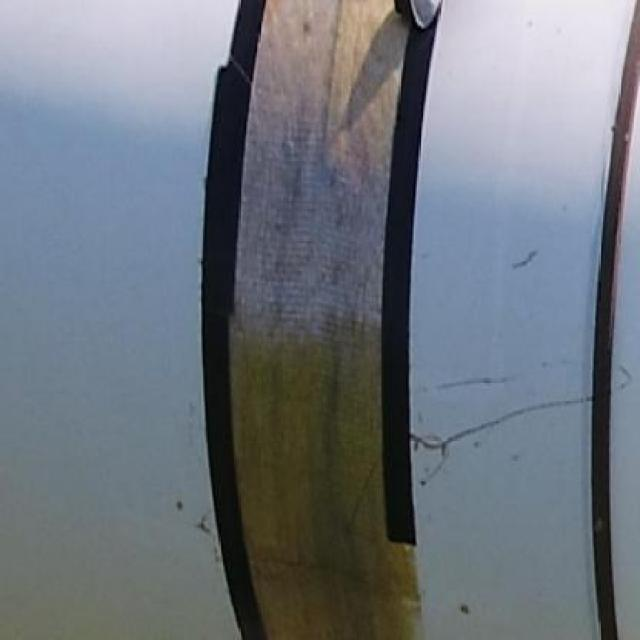Coating_defects: (198, 512, 216, 534)
Crack: (409, 359, 634, 486), (511, 249, 542, 273)
